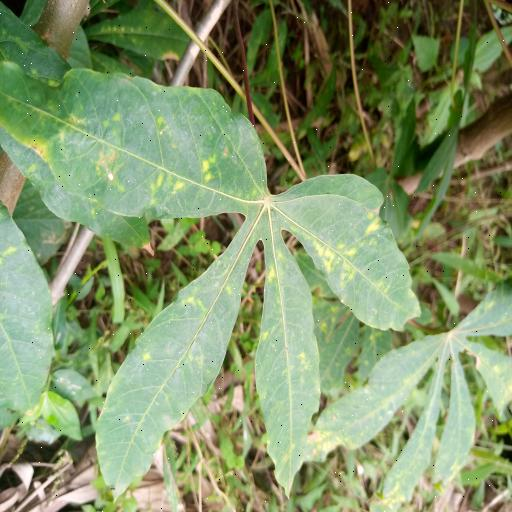Cassava_Mosaic: (1, 49, 424, 493)
